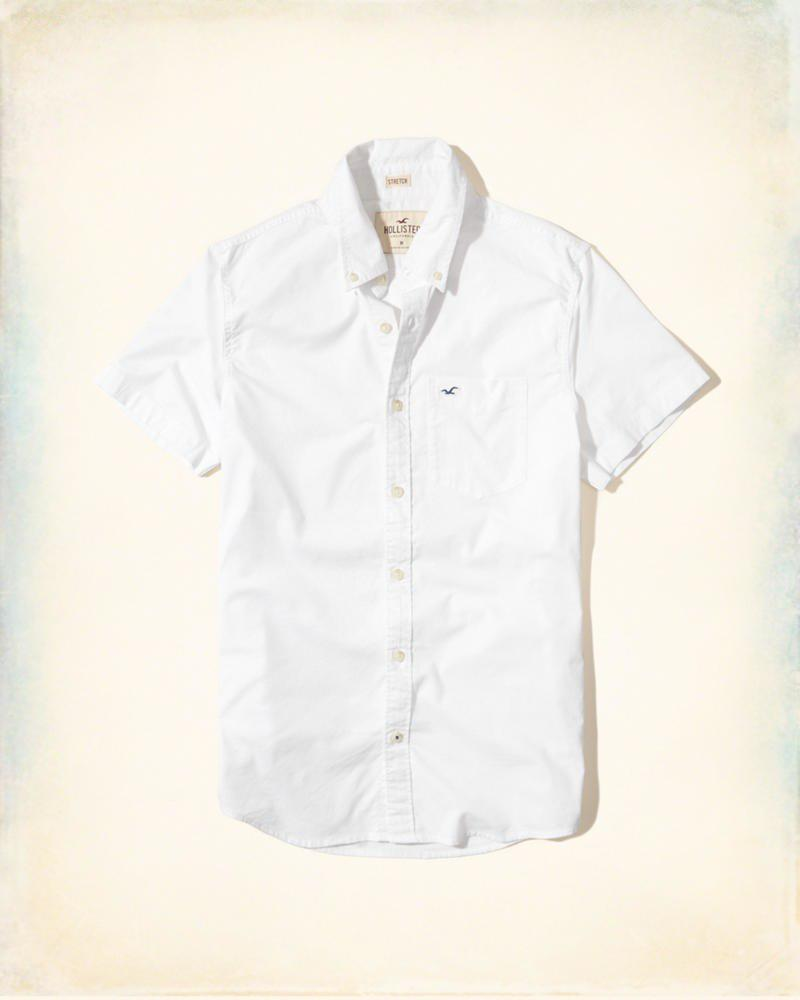teeshirt: (97, 137, 729, 875)
